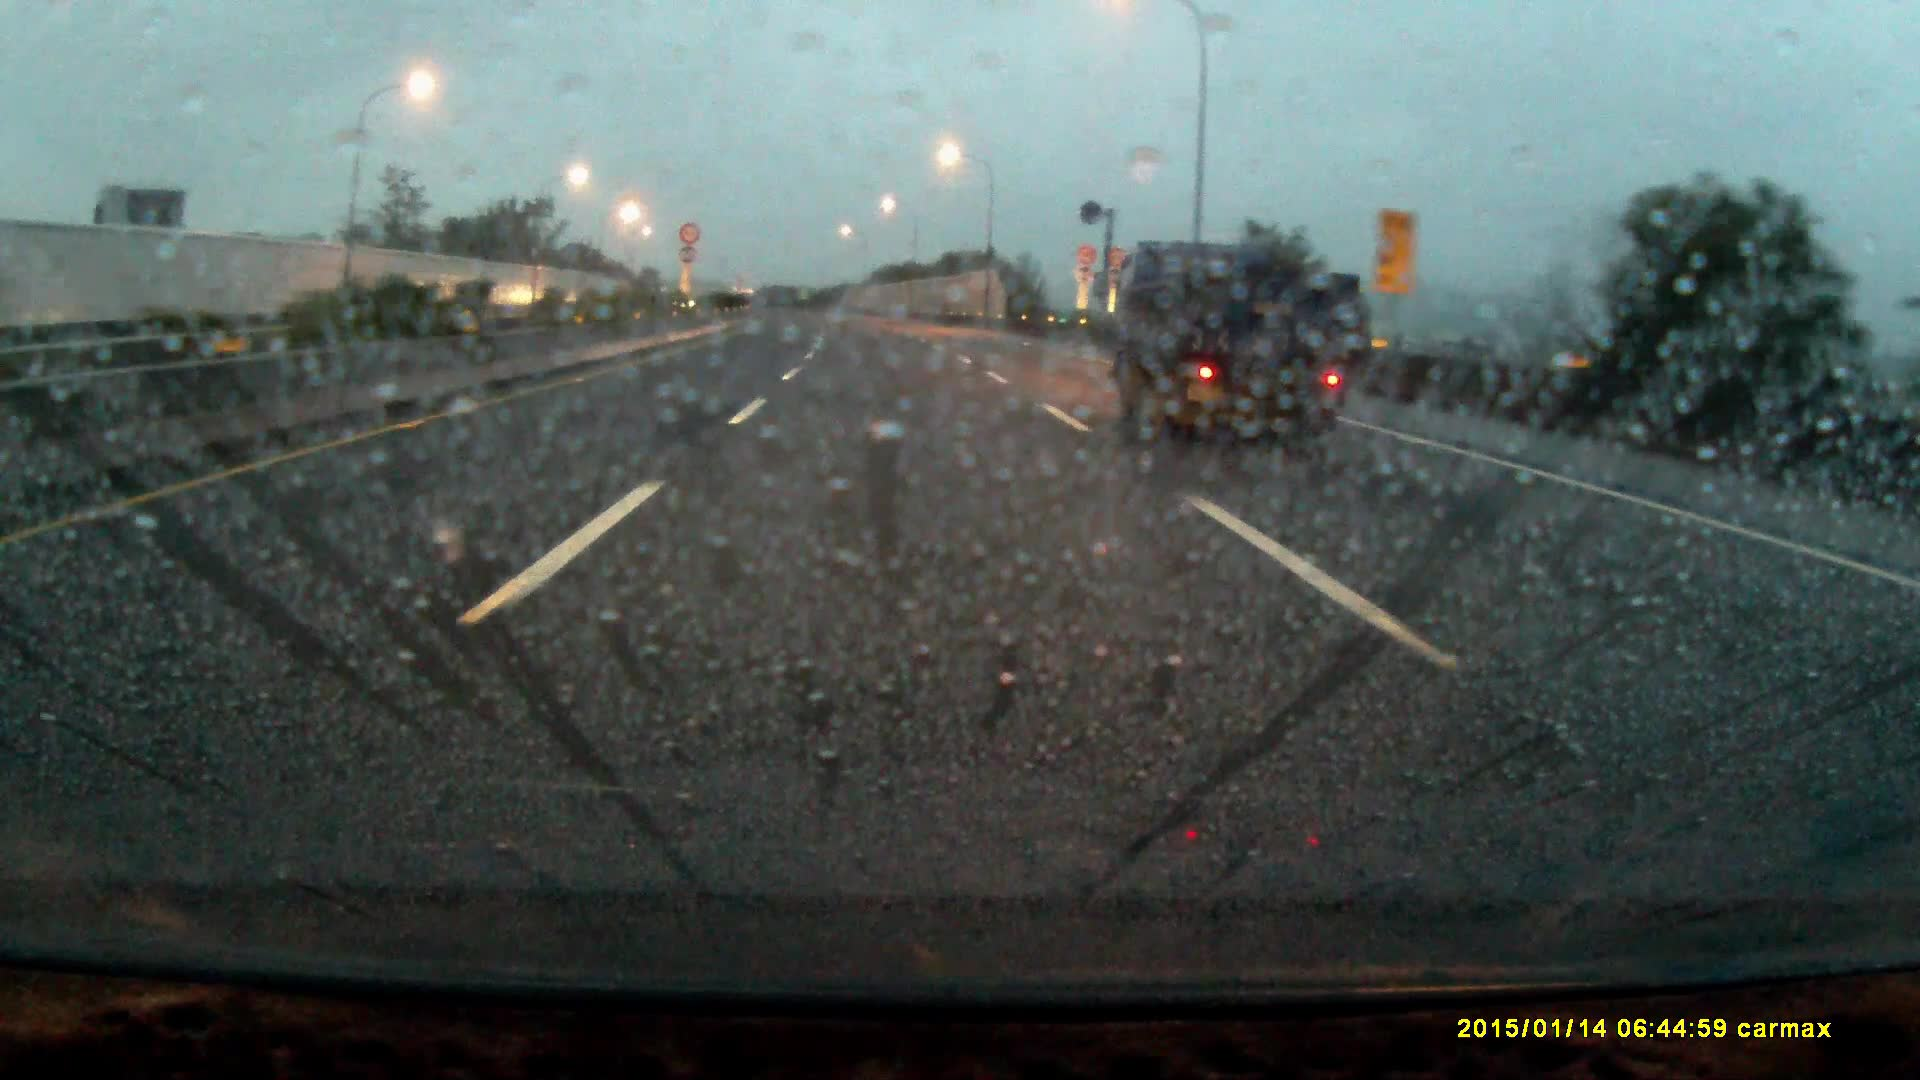vehicle: (1112, 236, 1369, 431)
